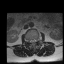CCS_normal: (32, 37, 34, 45)
LFS_normal: (36, 37, 37, 43)
LLS_normal: (34, 37, 36, 44)
RFS_normal: (28, 37, 30, 43)
RLS_normal: (30, 37, 32, 44)
